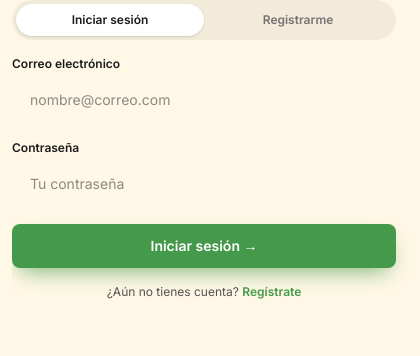
Test case: shows a validation error and does not call login with an invalid email
Type "valentina" into the field labelled "Correo electrónico" at point(204, 100), box [12,76,396,124]
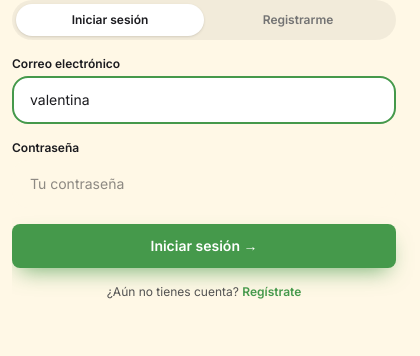
Click the button "Iniciar sesión →" at point(204, 246), box [12,224,396,268]
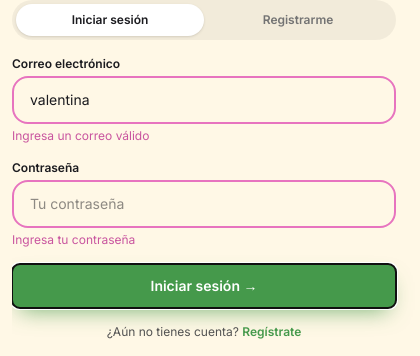
Expected: the text "Ingresa un correo válido" is shown, [12,128,149,143]
